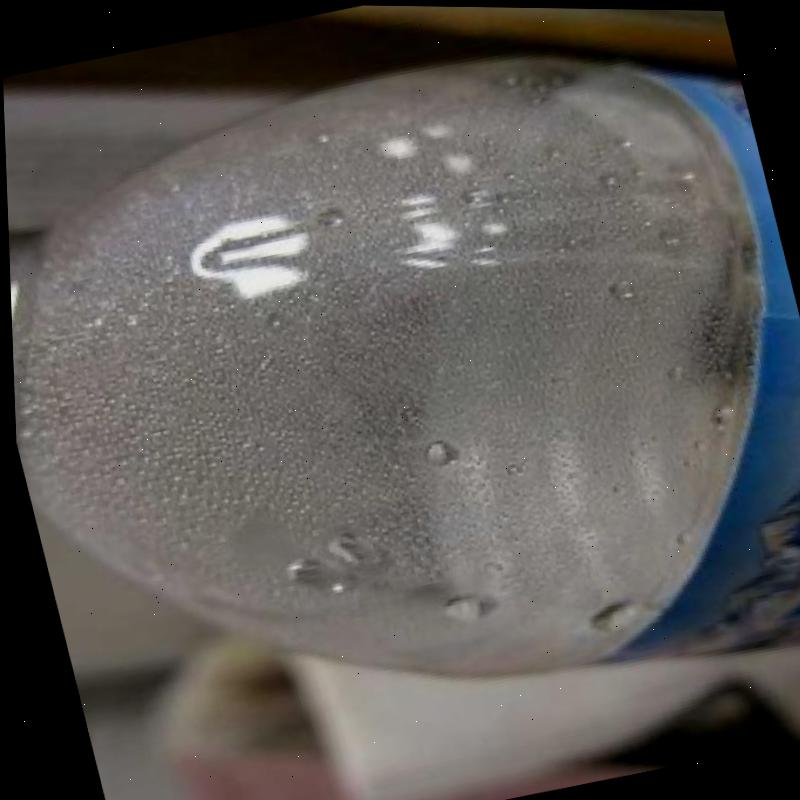botella: (0, 0, 800, 798)
